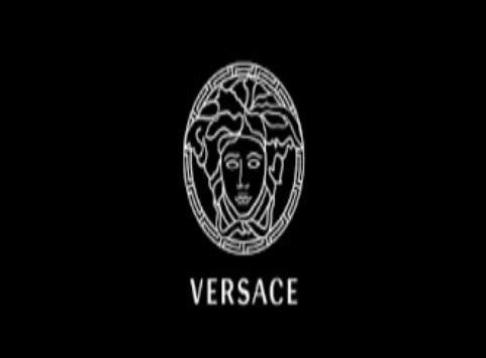VERSACE: (146, 41, 325, 317)
